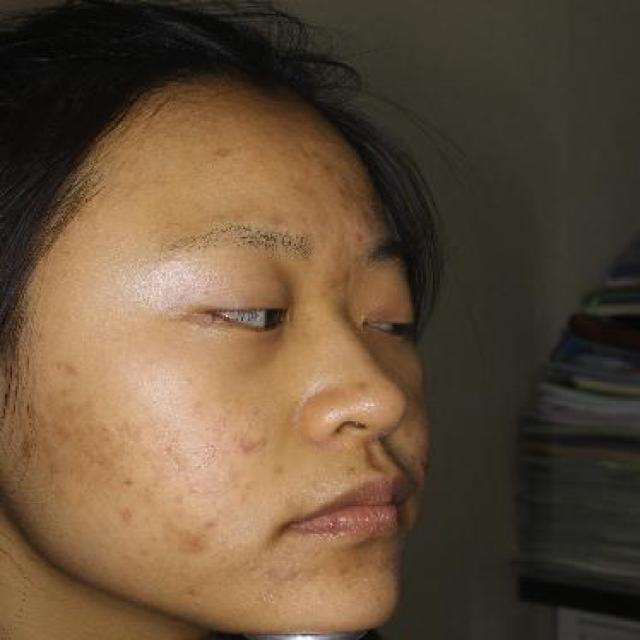papules: (197, 514, 224, 534), (236, 438, 258, 458)
